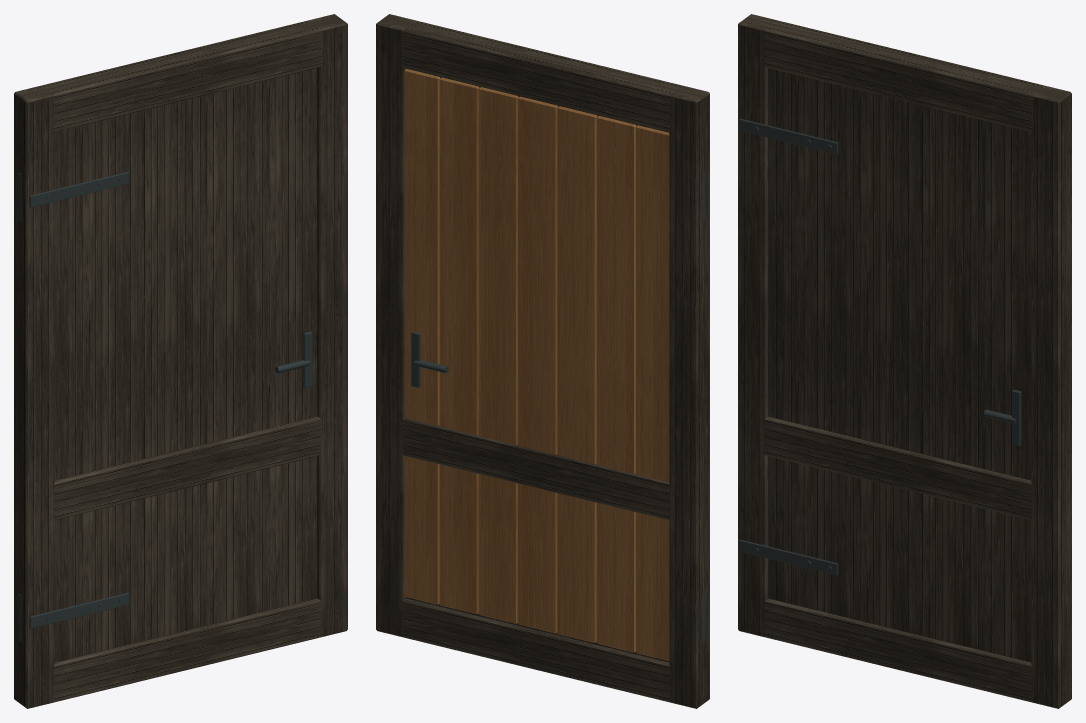
3 renders of one model, left to right at view 1: azimuth 30°, elevation 25°; view 2: azimuth 150°, elevation 25°; view 3: azimuth 330°, elevation 25°, orthographic.
Parts seen in each view (by area): view 1: Mesh_dark, Mesh_iron; view 2: Mesh_warm, Mesh_dark, Mesh_iron; view 3: Mesh_dark, Mesh_iron.
Part boxes in pixels (x1=…): Mesh_dark: x1=14, y1=14, x2=347, y2=708; Mesh_iron: x1=18, y1=172, x2=312, y2=641; Mesh_warm: x1=404, y1=69, x2=669, y2=660; Mesh_dark: x1=376, y1=14, x2=709, y2=708; Mesh_iron: x1=411, y1=173, x2=705, y2=641; Mesh_dark: x1=738, y1=14, x2=1071, y2=708; Mesh_iron: x1=739, y1=118, x2=1021, y2=575.
Size of the model in its own units: 1.24 by 2.24 by 0.126.
3 materials, 2 textured.
